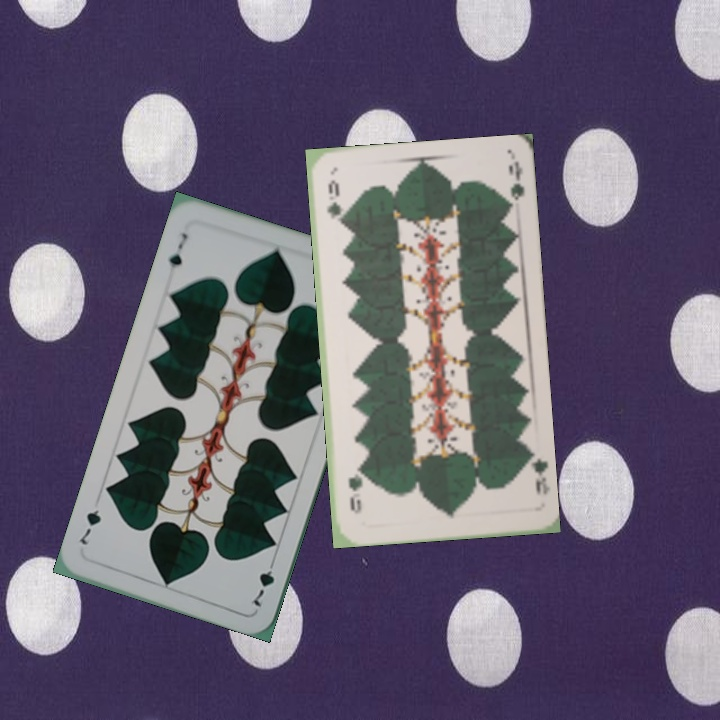G7: (248, 554, 278, 609), (164, 229, 190, 277)
G9: (520, 449, 550, 497), (323, 176, 344, 227)
